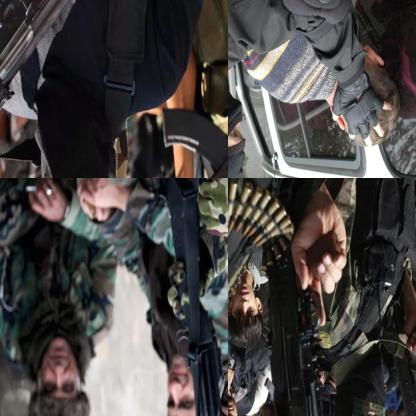rifle: (0, 0, 101, 177), (258, 220, 345, 415), (162, 178, 227, 415), (115, 68, 227, 177), (383, 307, 415, 415)
